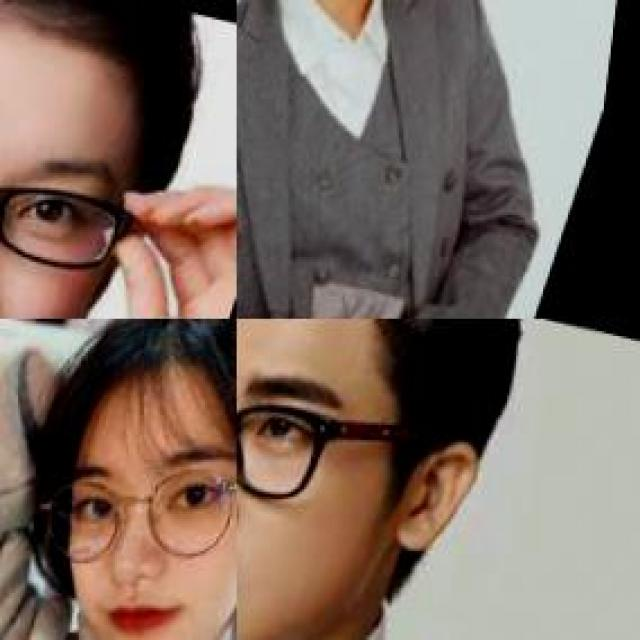Glasses: (25, 415, 234, 615), (237, 336, 430, 544), (0, 121, 169, 299)
